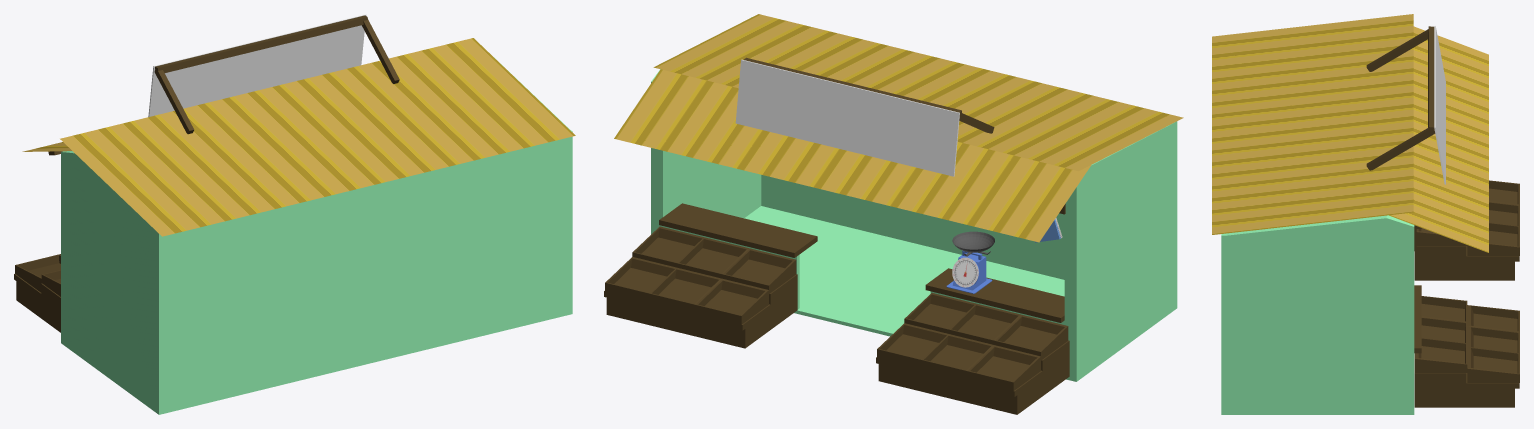
File: prutasanlabas.fbx
3 views of the same model, side by side, from view 1: azimuth 30°, elevation 25°; view 2: azimuth 150°, elevation 25°; view 3: azimuth 270°, elevation 25° (orthographic). The views are drawn at different scales.
Visible parts, largest first — view 1: prutasanlabas, Plane, stallname, Cube.498, LongTable1.001, Cube.499, Cube.001; view 2: prutasanlabas, Plane.001, Plane, stallname, Cube.671, Cube.001, Plane.043, LongTable1.012, LongTable1.001, Cube.498, Sphere.104, Cylinder.072 (+1 smaller); view 3: Plane, prutasanlabas, Plane.001, Cube.671, LongTable1.012, LongTable1.001, Cube.001, stallname, Cube.499, Cube.498, Plane.043.
Part boxes in pixels (x1,y1,x2,y2): prutasanlabas: (61, 57, 572, 414); Plane: (60, 38, 575, 236); stallname: (148, 14, 366, 116); Cube.498: (155, 15, 367, 72); LongTable1.001: (14, 274, 60, 332); Cube.499: (154, 19, 399, 134); Cube.001: (15, 254, 60, 296); prutasanlabas: (651, 17, 1177, 381); Plane.001: (614, 69, 1091, 242); Plane: (653, 14, 1183, 171); stallname: (735, 59, 959, 176); Cube.671: (605, 226, 796, 324); Cube.001: (877, 293, 1068, 391); Plane.043: (659, 203, 1064, 322); LongTable1.012: (604, 274, 797, 348); LongTable1.001: (876, 340, 1069, 414); Cube.498: (744, 57, 961, 112); Sphere.104: (952, 231, 994, 252); Cylinder.072: (952, 257, 979, 287); Plane: (1212, 14, 1413, 234); prutasanlabas: (1221, 215, 1414, 414); Plane.001: (1389, 26, 1488, 252); Cube.671: (1415, 296, 1519, 382); LongTable1.012: (1414, 353, 1519, 407); LongTable1.001: (1414, 246, 1519, 280); Cube.001: (1416, 180, 1519, 255); stallname: (1434, 26, 1445, 184); Cube.499: (1366, 29, 1435, 170); Cube.498: (1428, 26, 1434, 129); Plane.043: (1414, 226, 1421, 353).
Bounding box in the file's own units: 10.95 × 6.15 × 7.14.
12 materials, 2 textured.
